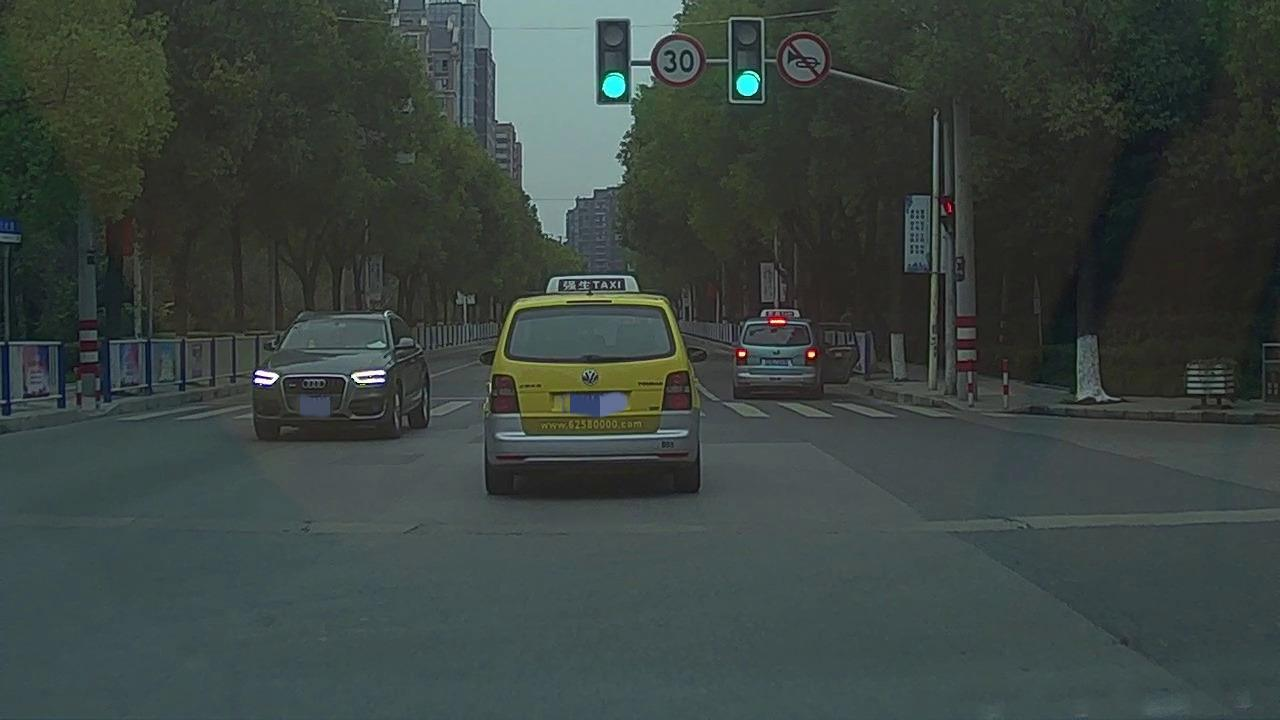traffic_light: (599, 17, 631, 102), (732, 19, 763, 100)
